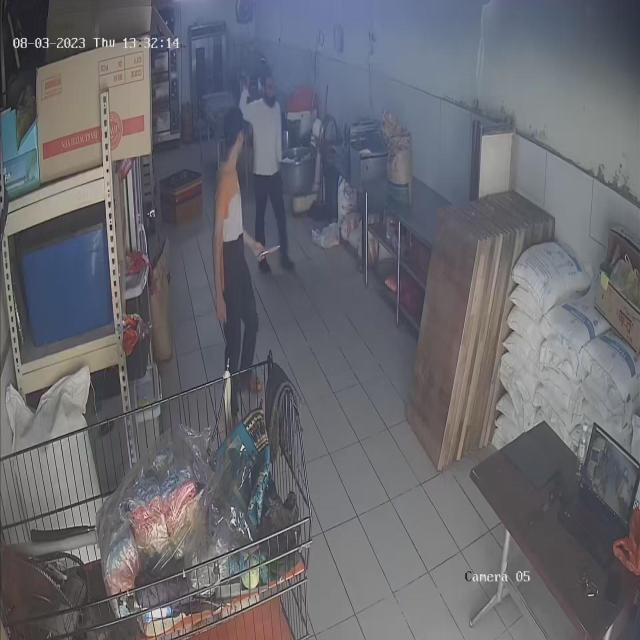Knife: (254, 230, 302, 268)
